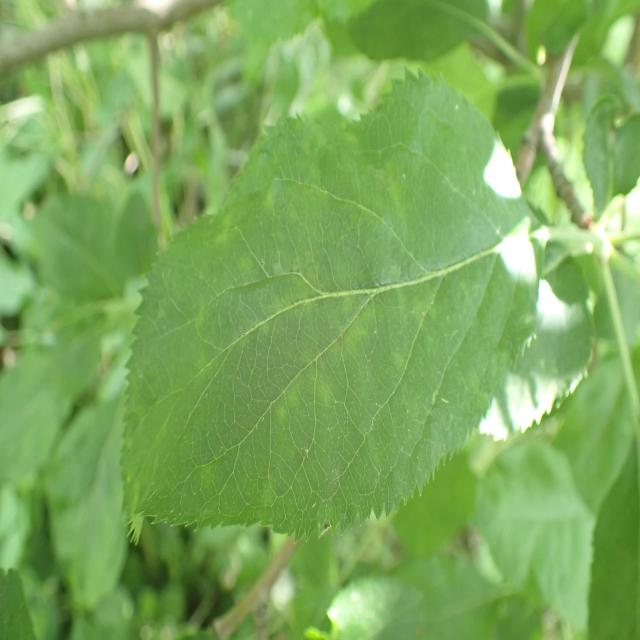scab: (121, 142, 523, 474)
